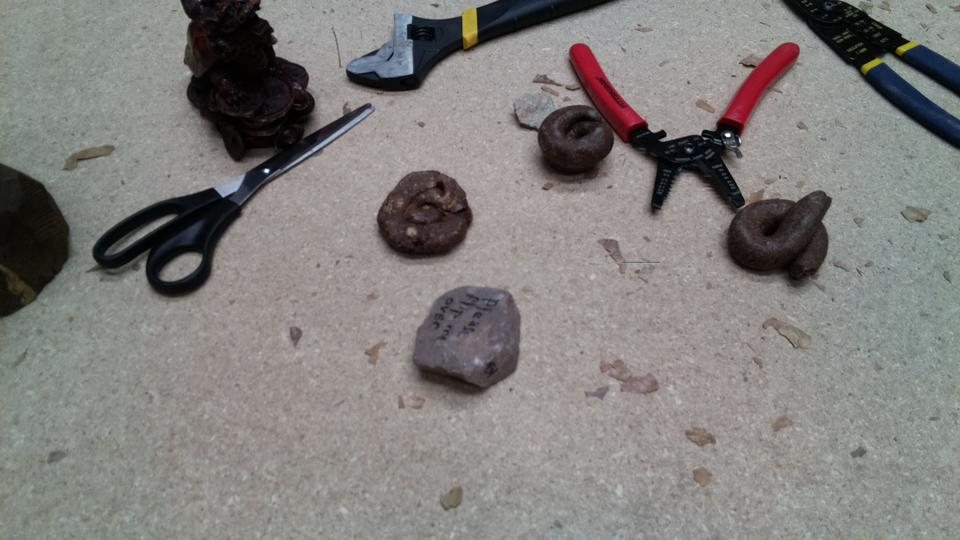poop: (723, 186, 837, 287), (373, 166, 477, 262), (536, 102, 617, 177)
